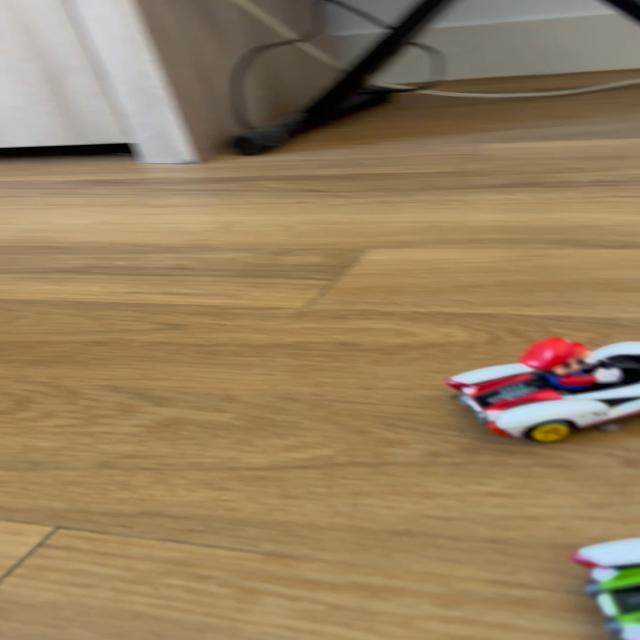mario: (435, 334, 640, 444)
yoshi: (567, 510, 640, 640)
